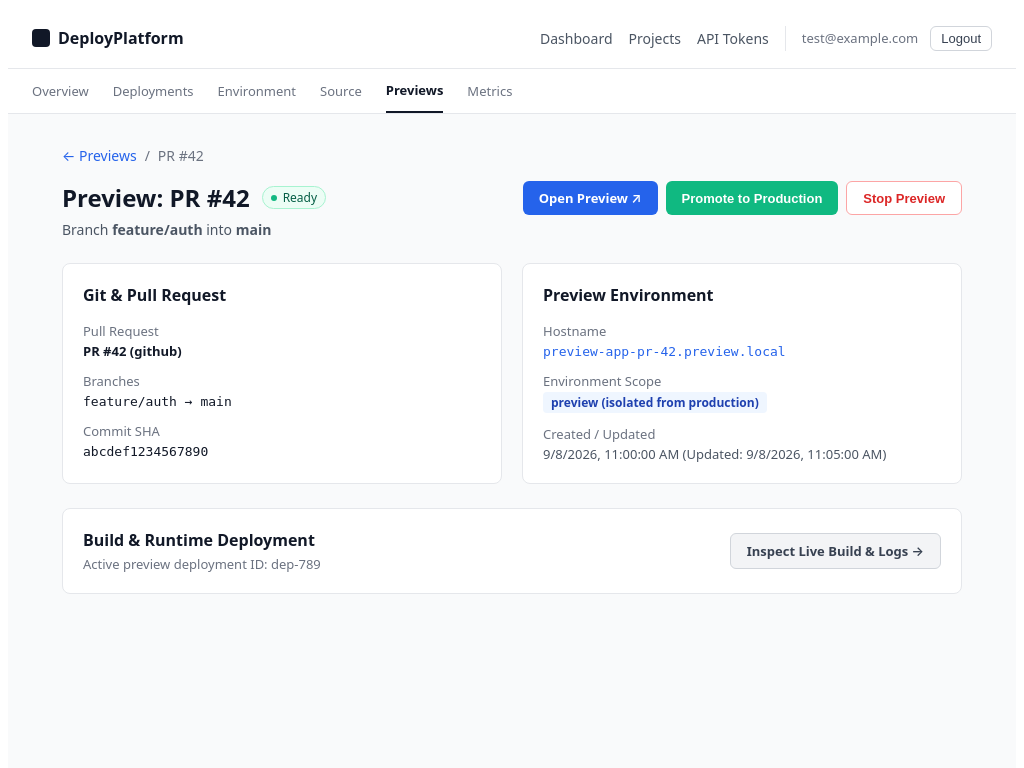
it: PreviewDetailPage › renders active preview details, open preview link, promote and stop buttons
Expected: the heading "Preview: PR #42" is shown, left=62, top=181, right=250, bottom=214
Expected: the link "Open Preview ↗" is shown, left=523, top=181, right=658, bottom=215
Trigger promote
Click the button "Promote to Production" at (752, 198), box left=666, top=181, right=838, bottom=215
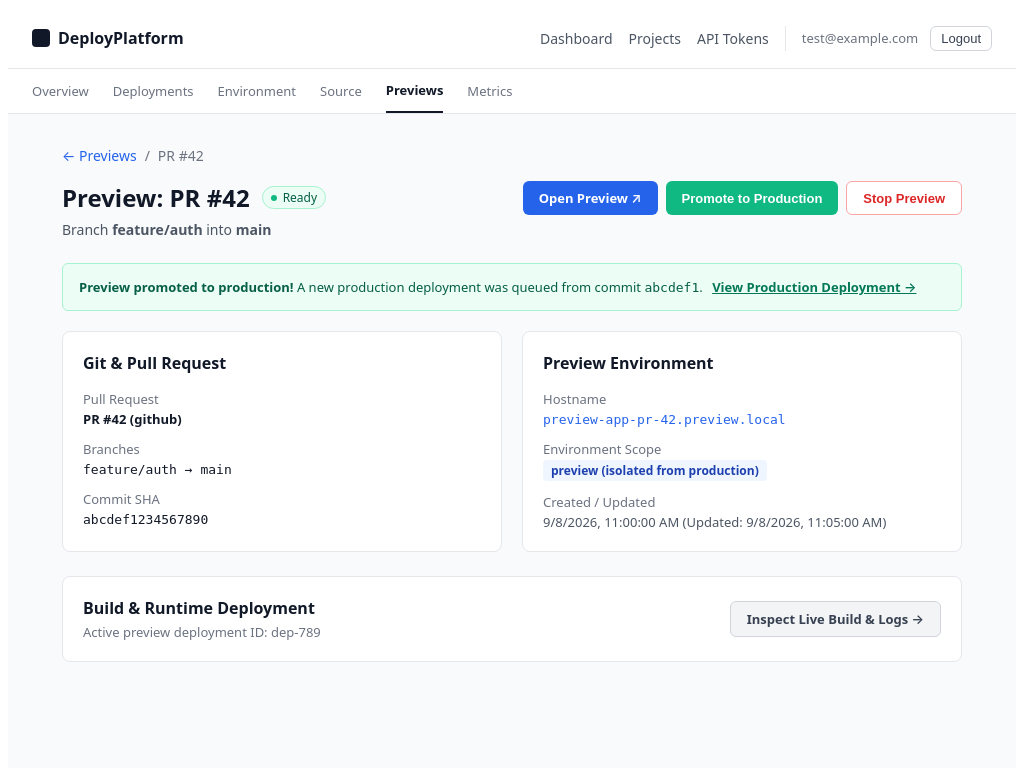
Expected: the text "Preview promoted to production!" is shown, left=79, top=278, right=294, bottom=296
